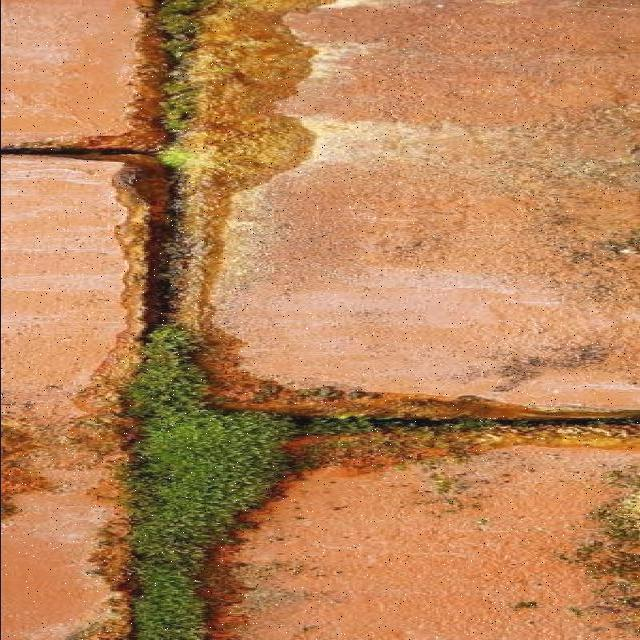crack: (221, 359, 640, 491)
dampness: (3, 4, 634, 295)
vegetation: (117, 322, 296, 639), (120, 324, 213, 431), (150, 5, 219, 144)
